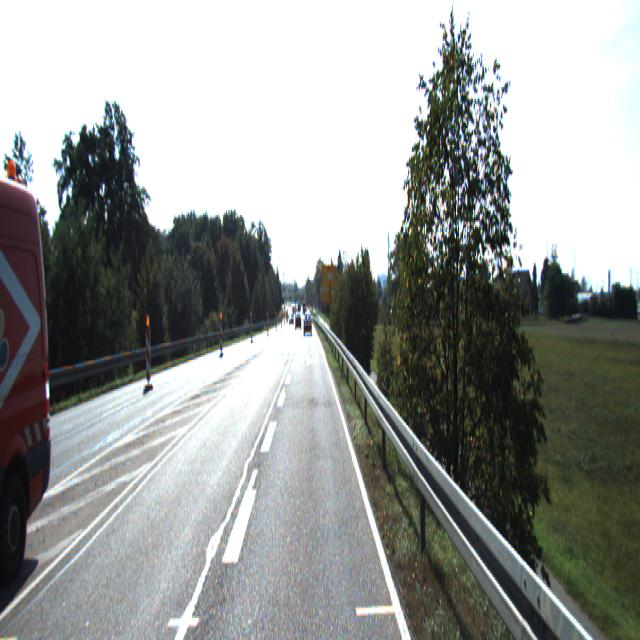Car: (304, 313, 312, 335)
DontCare: (282, 302, 302, 334)
Van: (0, 148, 61, 600)
